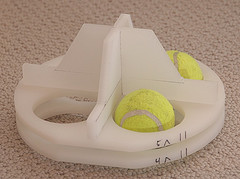tennis ball: (113, 88, 175, 134), (164, 48, 205, 83)
